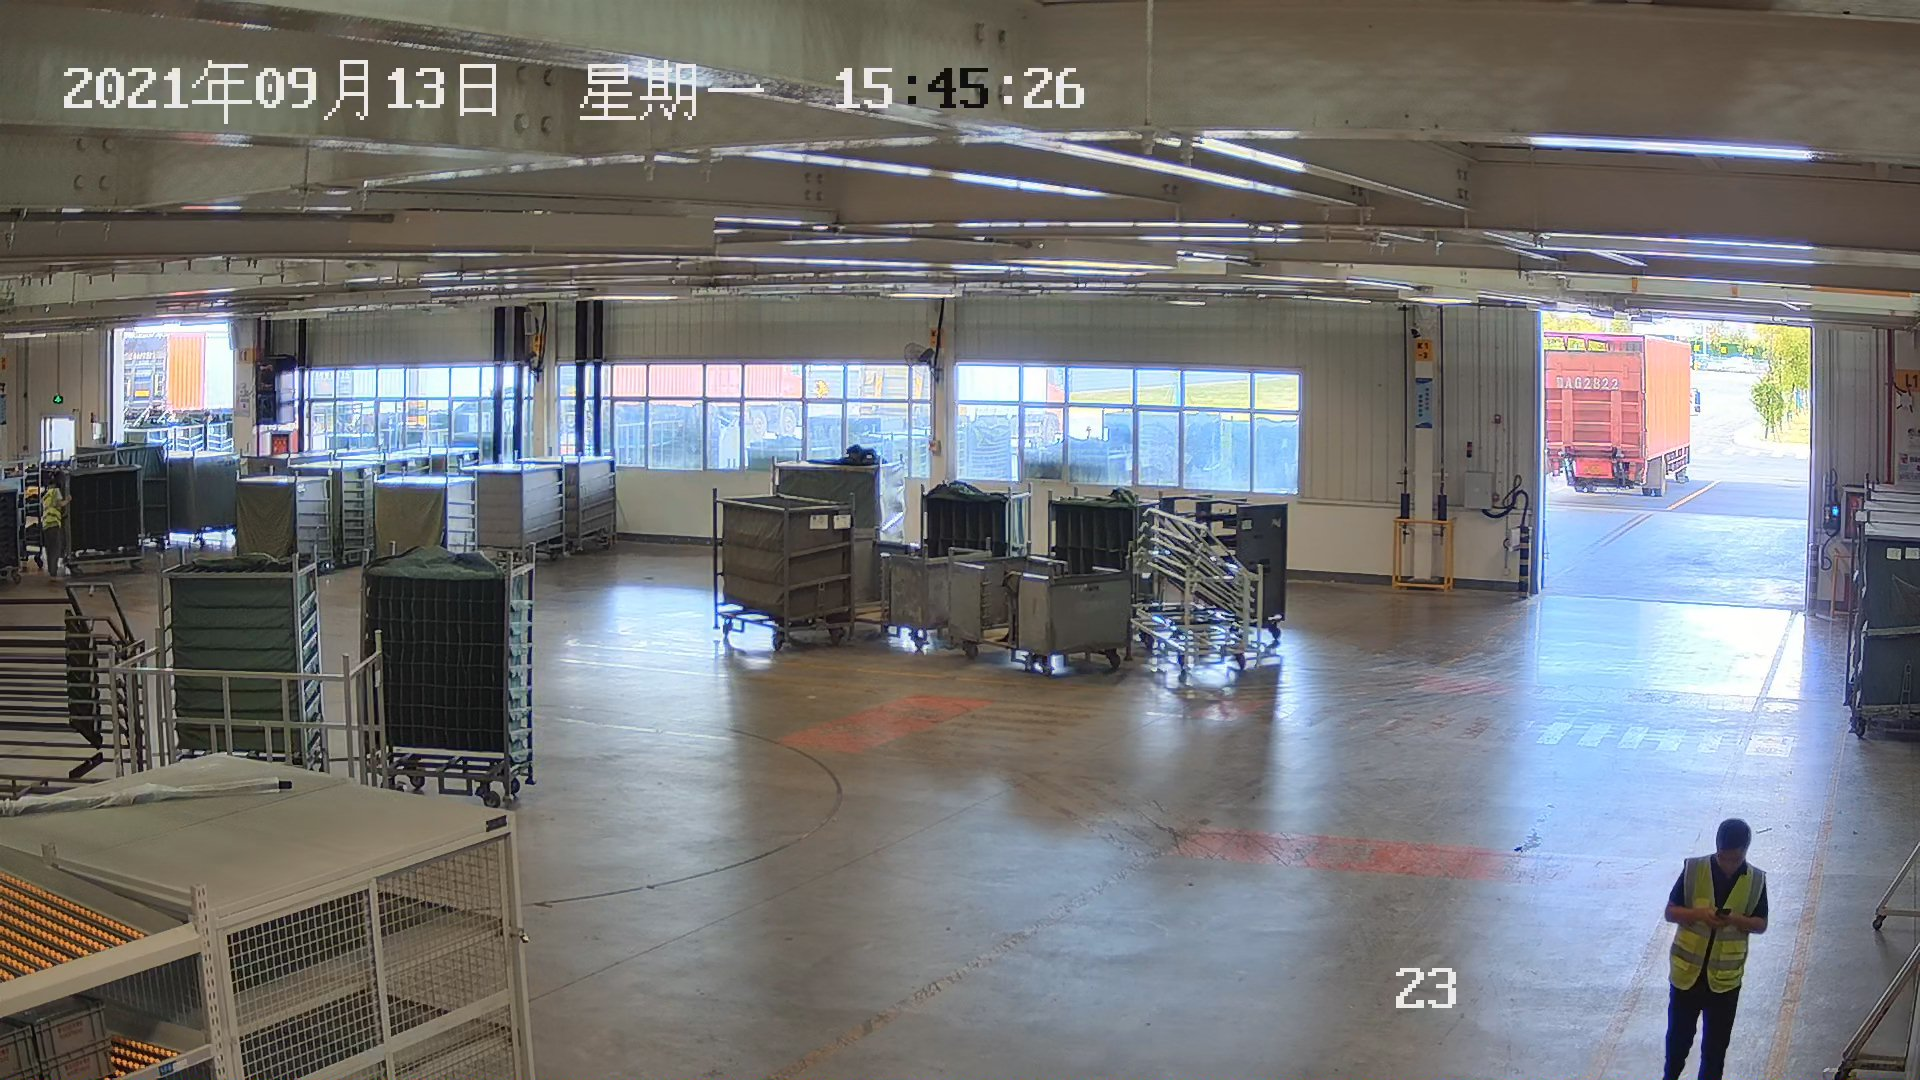hand: (1698, 904, 1722, 929), (1720, 910, 1741, 926)
person: (1661, 812, 1778, 1080)
phone: (1714, 904, 1732, 918)
